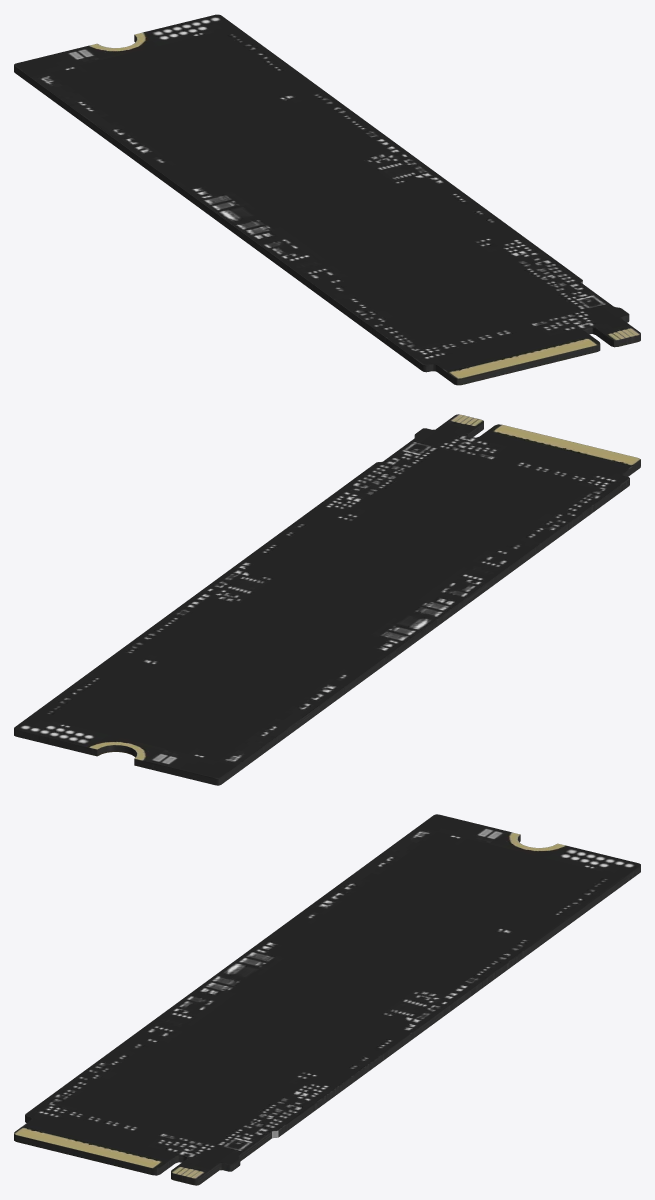
Rendered from nvme-m2.glb.
3 views of the same model, one above another, from view 1: azimuth 30°, elevation 25°; view 2: azimuth 150°, elevation 25°; view 3: azimuth 330°, elevation 25° (orthographic).
Visible parts, largest first — view 1: normalized; view 2: normalized; view 3: normalized.
Part boxes in pixels (bbox=[...]): normalized: bbox=[14, 14, 640, 385]; normalized: bbox=[14, 414, 640, 785]; normalized: bbox=[14, 814, 640, 1185].
Size of the model in its own units: 0.022 by 0.00191 by 0.08.
1 material, 1 textured.
